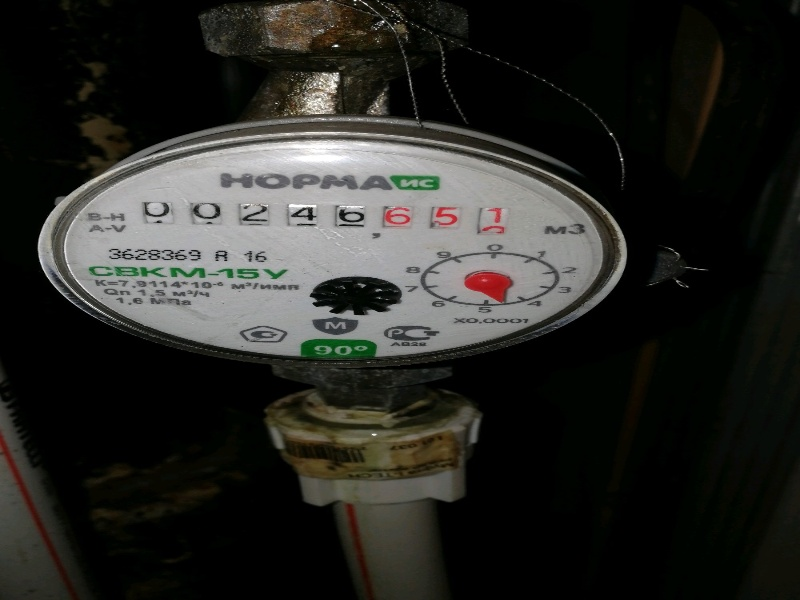dial: (139, 193, 530, 234)
